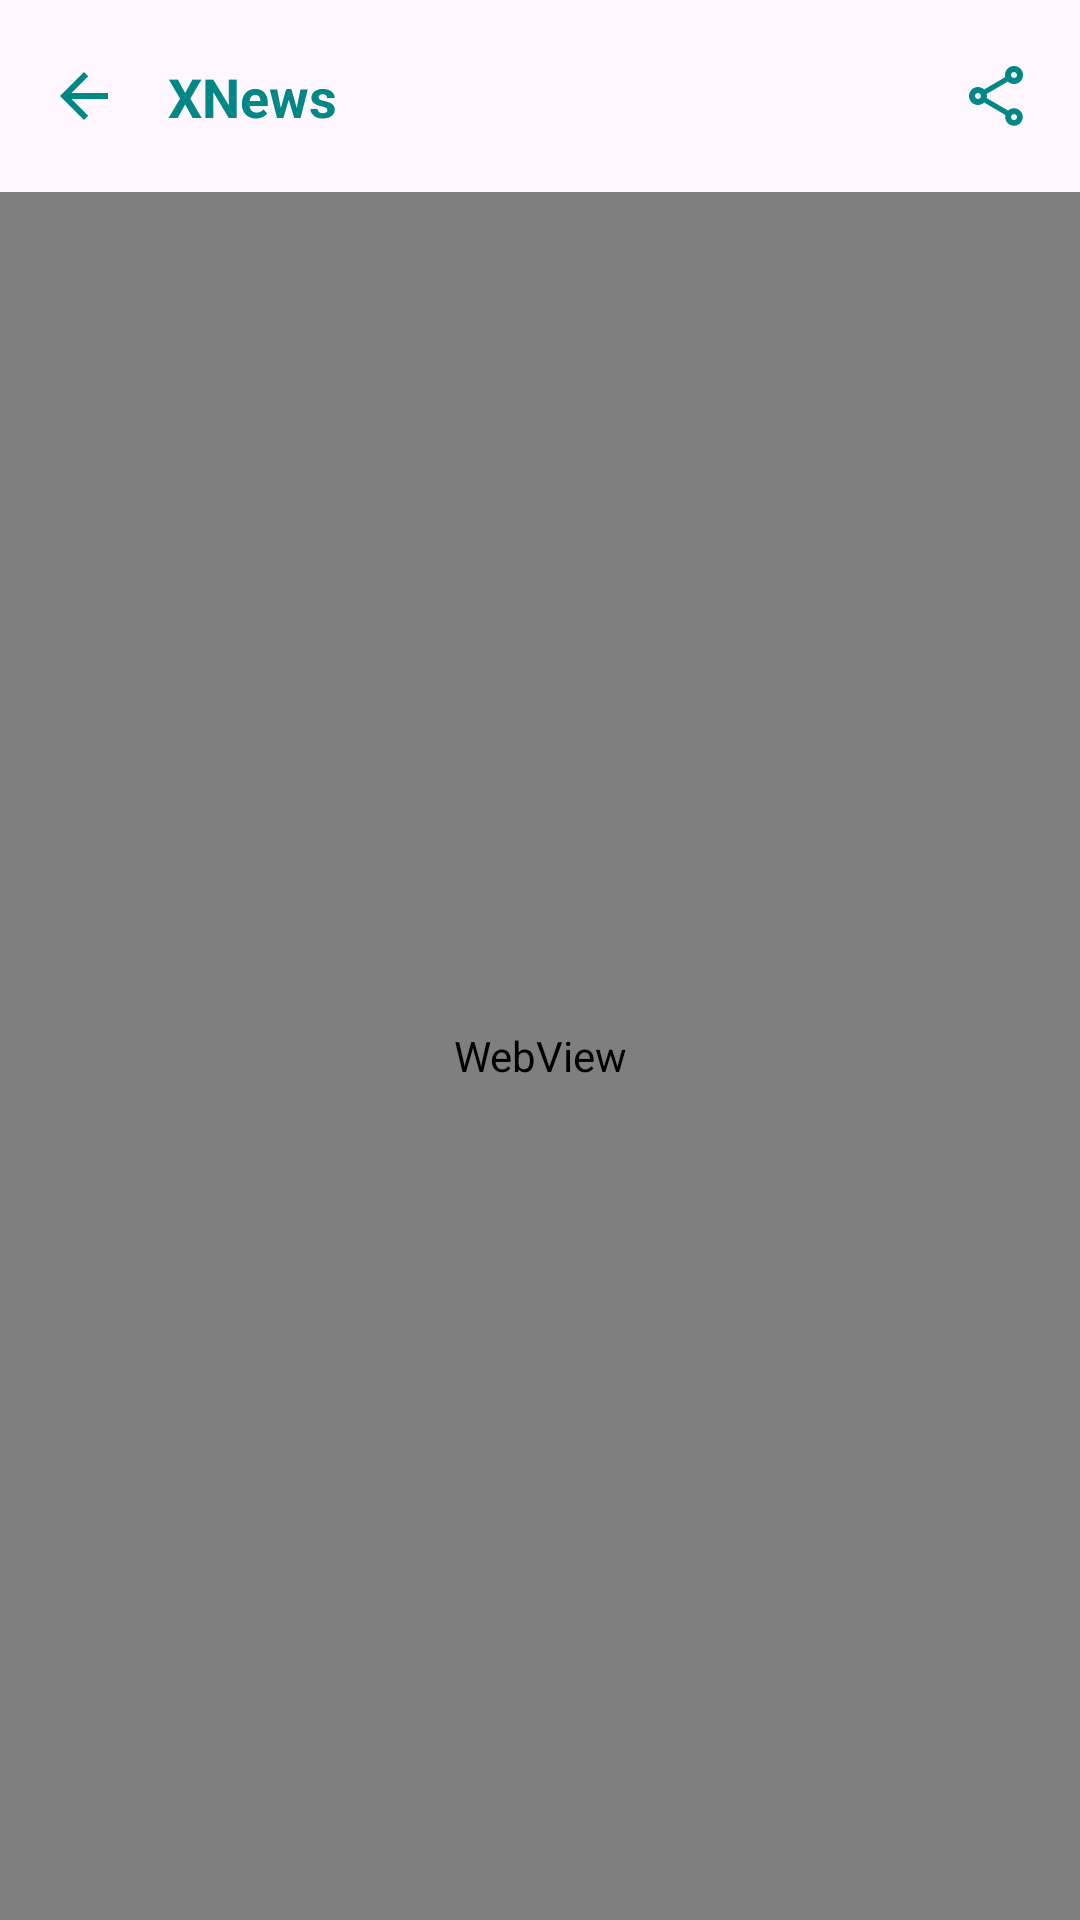

Icons on this 1080 x 1920 Android screen, each with the point to tap as (x,y):
arrow back: (84,96)
share: (996,96)
